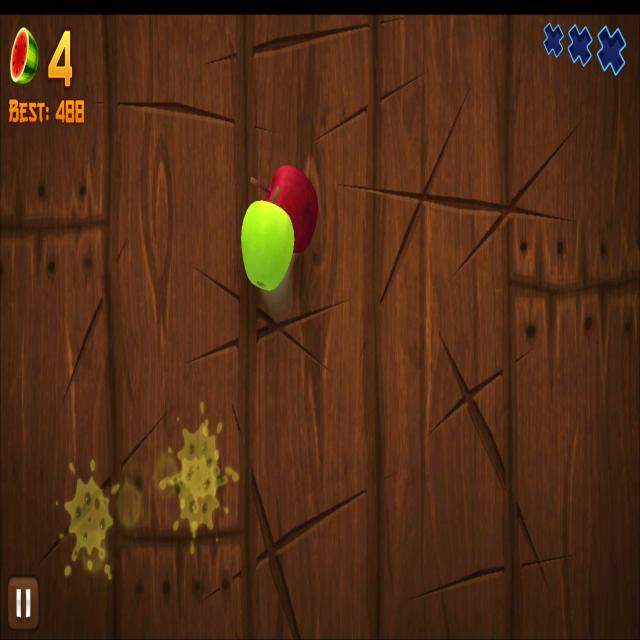fruit: (240, 198, 294, 292), (265, 164, 319, 254)
